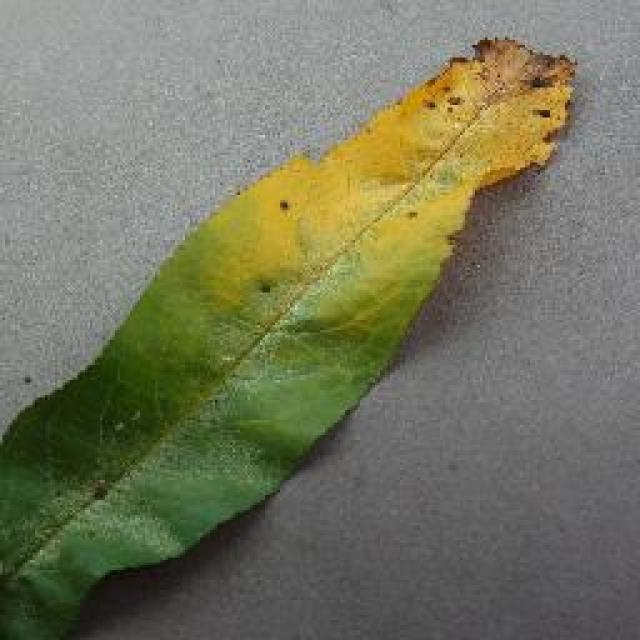Peach_Bacterial_Spot: (322, 0, 562, 225)
